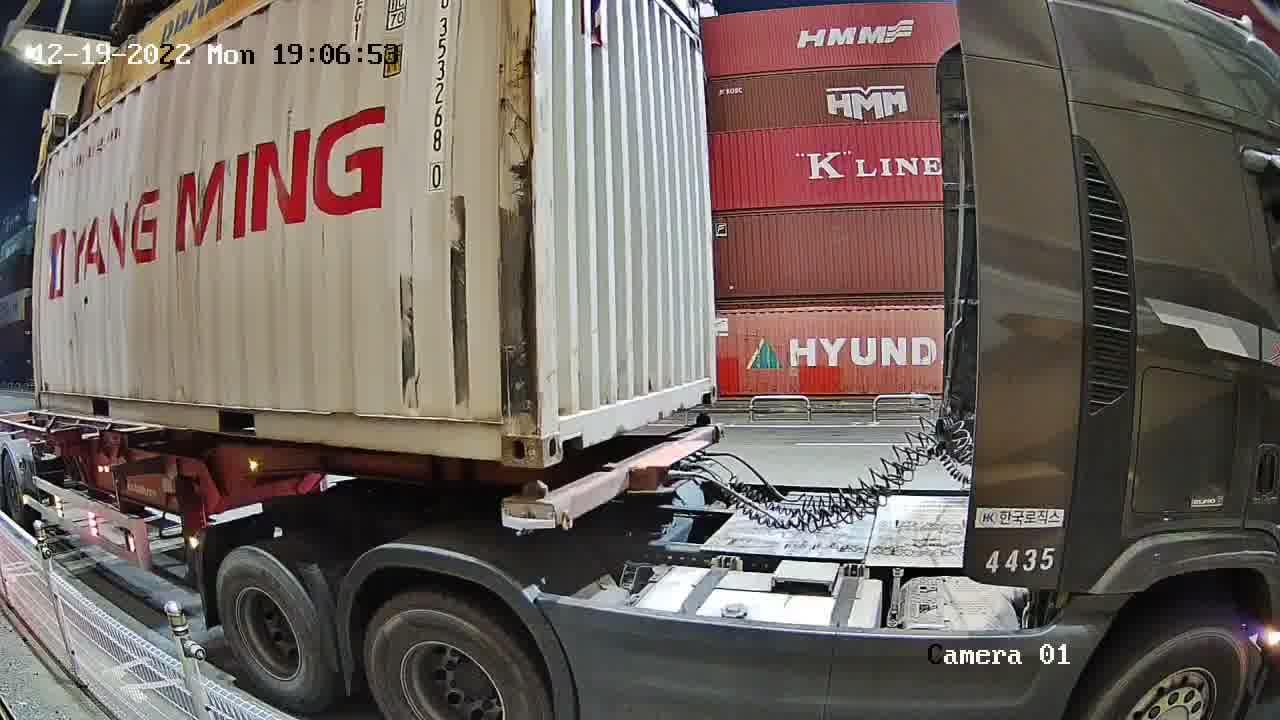Chassis: (503, 423, 718, 527)
Cone: (513, 480, 552, 527), (694, 412, 714, 426)
Hole_L: (538, 388, 588, 468)
Hole_R: (467, 393, 538, 468), (693, 364, 718, 409)
Tire: (365, 596, 540, 719), (217, 549, 322, 705)
